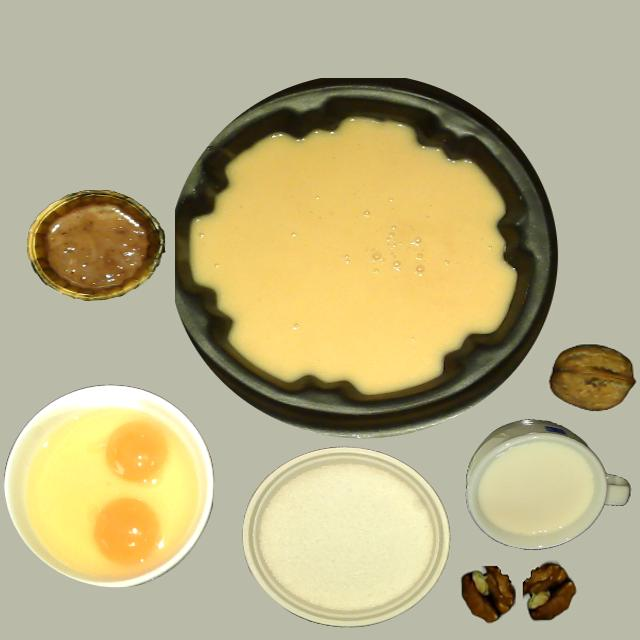Egg: (94, 498, 161, 564), (105, 422, 168, 482)
Milk: (482, 446, 588, 533)
Sugar: (242, 446, 450, 628)
Walnut: (548, 344, 634, 410)
